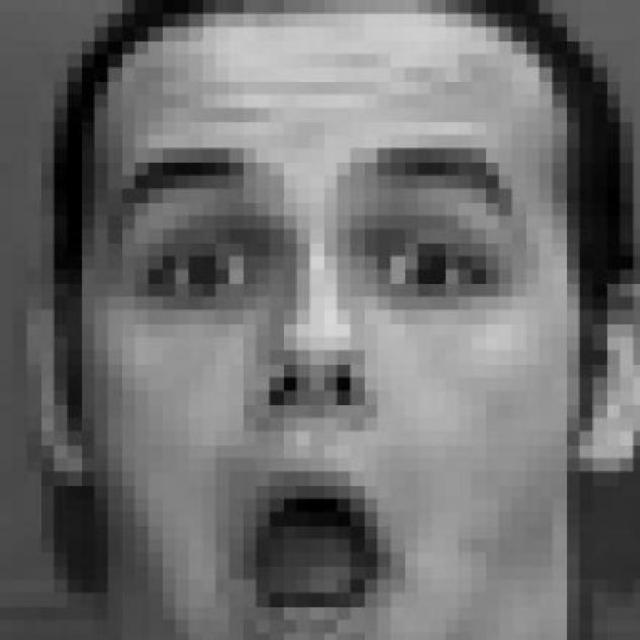Surprised: (26, 101, 640, 640)
